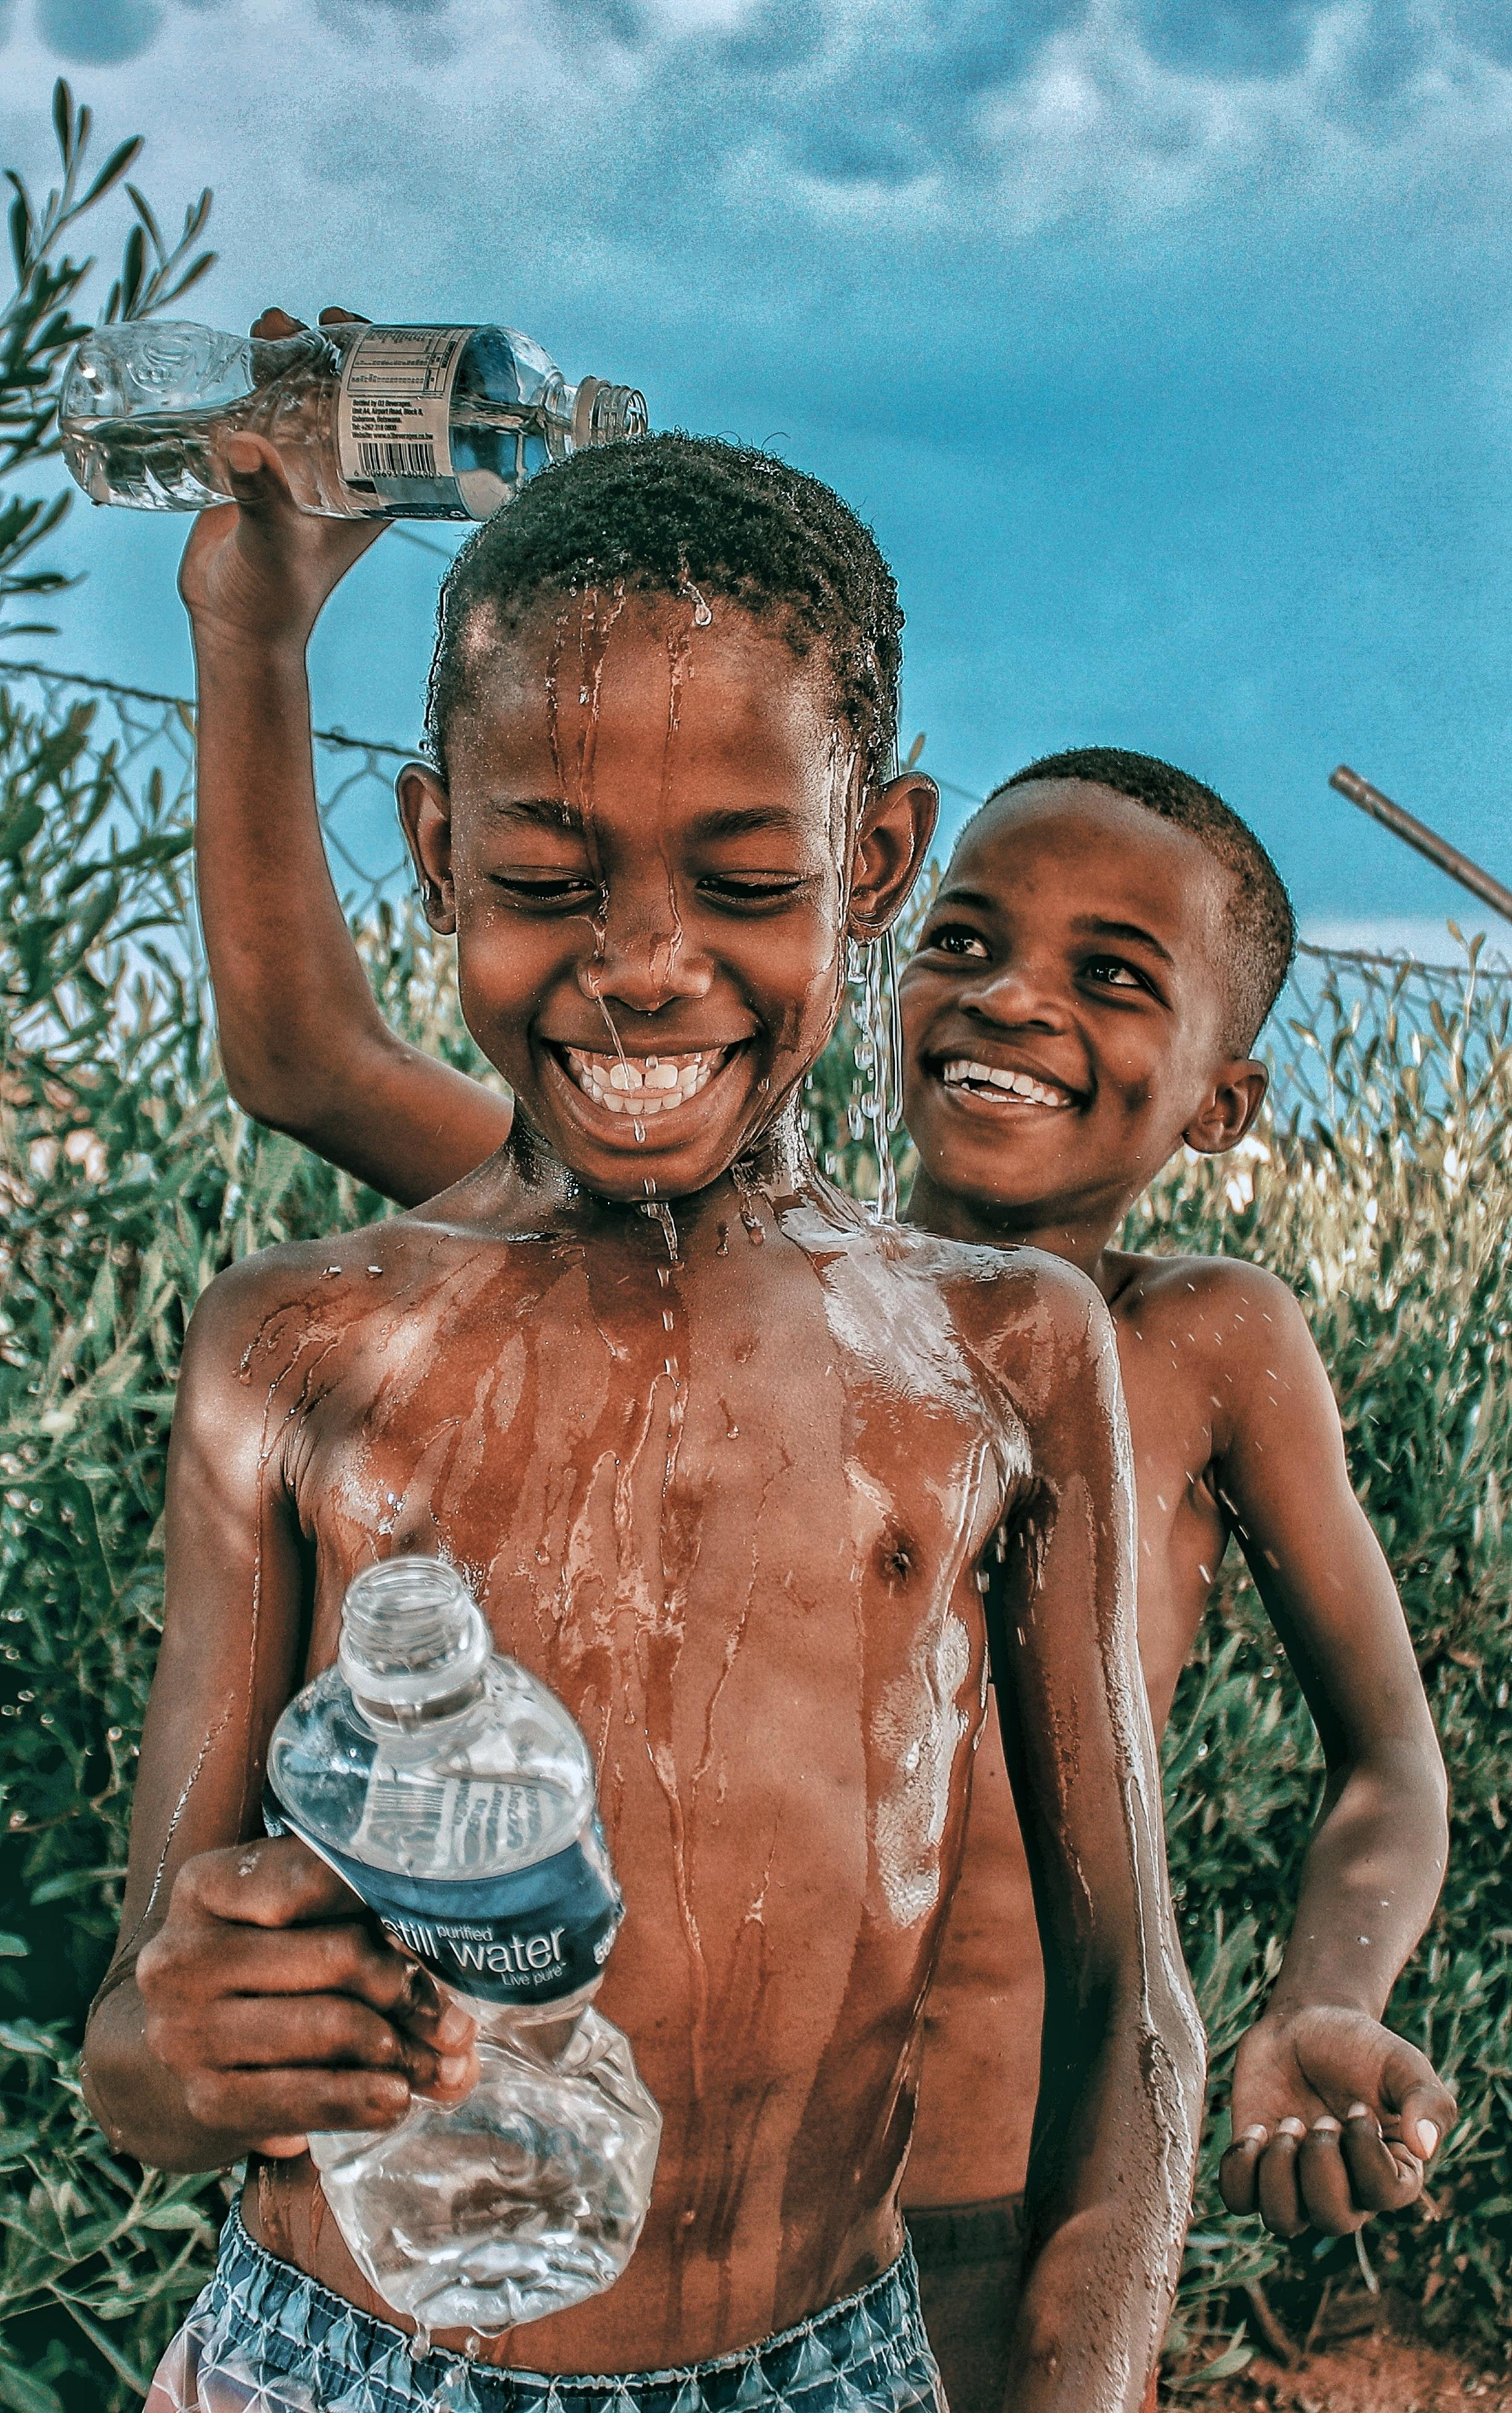bottle: (244, 1502, 707, 2347), (38, 253, 683, 573)
